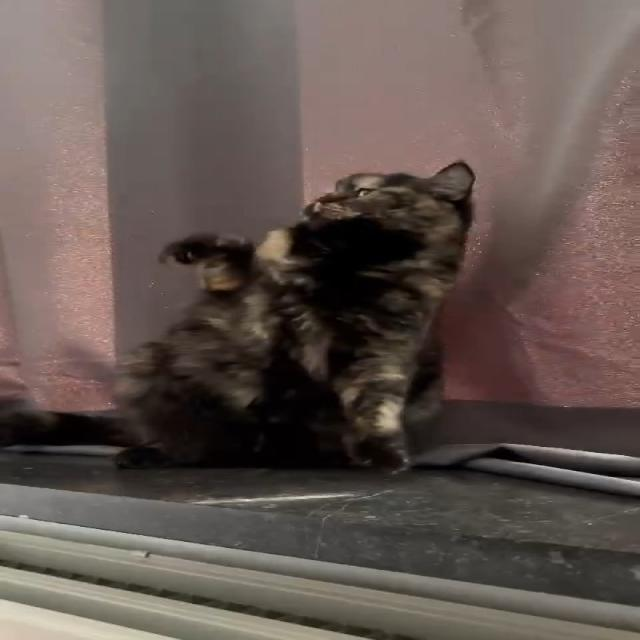authorized: (251, 160, 477, 473)
